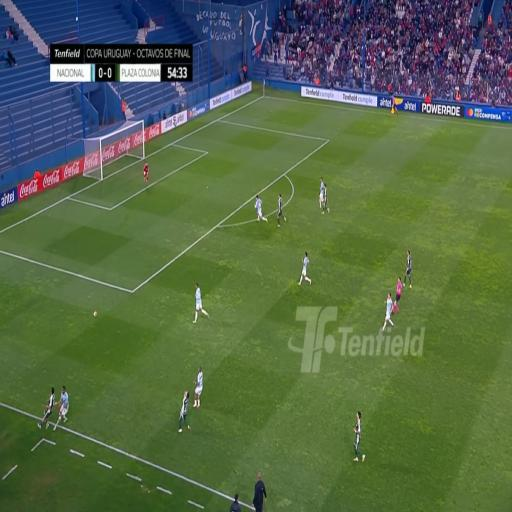Ball: (92, 308, 98, 319)
Goalkeeper: (143, 158, 150, 182)
Player: (36, 383, 56, 430), (178, 389, 192, 436), (353, 408, 364, 463), (57, 382, 69, 426), (194, 282, 205, 324), (300, 248, 310, 292), (194, 364, 203, 412), (254, 192, 266, 224), (385, 291, 394, 331), (277, 190, 286, 226), (406, 247, 412, 287), (319, 173, 325, 212), (324, 182, 329, 214)
Referee: (396, 275, 401, 311), (390, 96, 397, 116)
